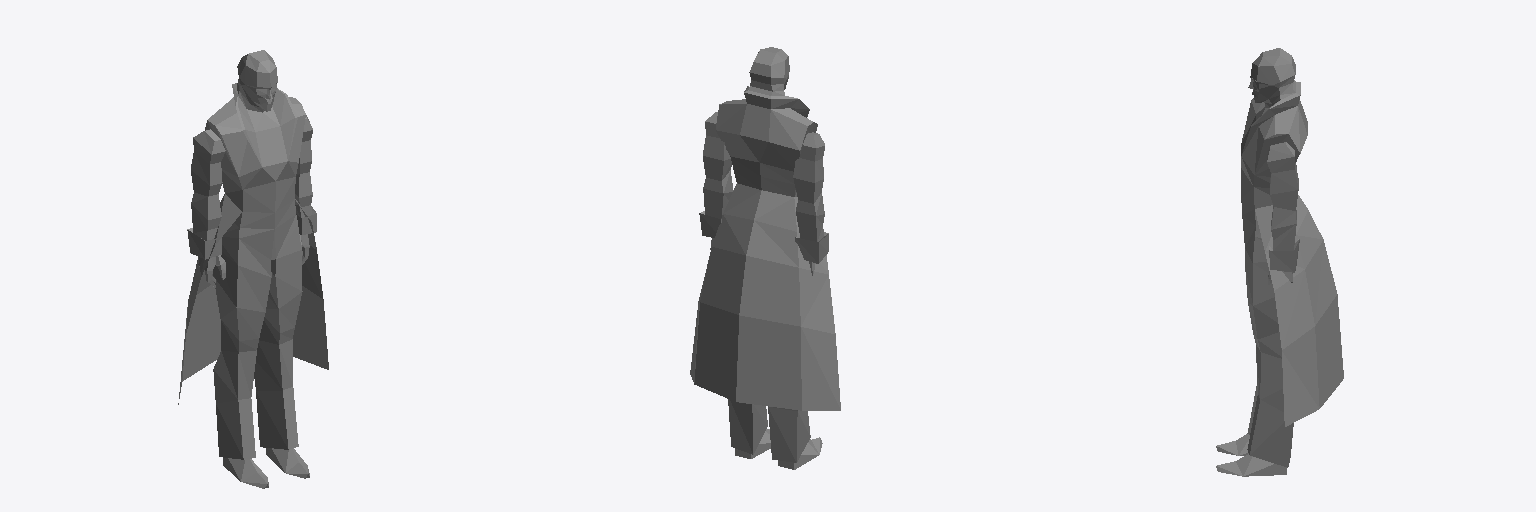
3 renders of one model, left to right at view 1: azimuth 30°, elevation 25°; view 2: azimuth 150°, elevation 25°; view 3: azimuth 270°, elevation 25°, orthographic.
Parts seen in each view (by area): view 1: Metal_Gear_Solid_Intergral_-_Revolver_Ocelot.002; view 2: Metal_Gear_Solid_Intergral_-_Revolver_Ocelot.002; view 3: Metal_Gear_Solid_Intergral_-_Revolver_Ocelot.002.
Boxes of the visible parts, x1=… form: Metal_Gear_Solid_Intergral_-_Revolver_Ocelot.002: x1=178, y1=50, x2=328, y2=488; Metal_Gear_Solid_Intergral_-_Revolver_Ocelot.002: x1=690, y1=47, x2=840, y2=469; Metal_Gear_Solid_Intergral_-_Revolver_Ocelot.002: x1=1216, y1=48, x2=1343, y2=476.
Size of the model in its own units: 35.7 by 92.3 by 26.25.